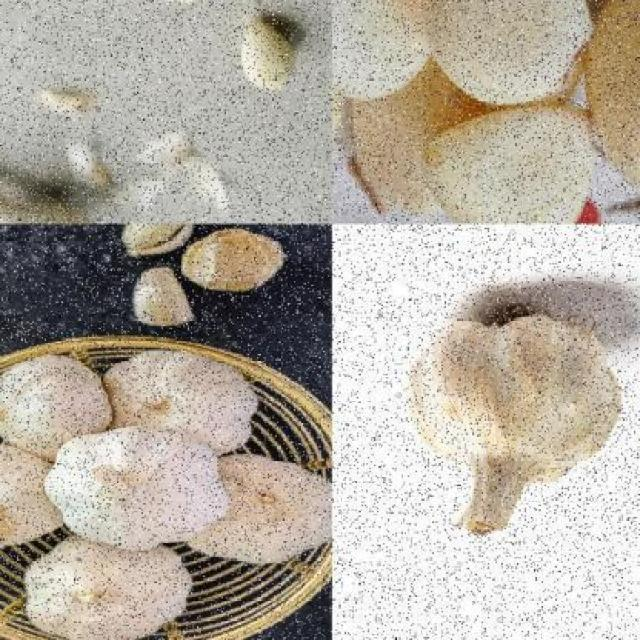garlic: (332, 0, 640, 223), (404, 295, 628, 543), (48, 430, 228, 550), (108, 224, 292, 328), (424, 0, 597, 105), (23, 536, 194, 639), (180, 452, 331, 566), (99, 353, 259, 456), (0, 353, 105, 459), (0, 440, 89, 548), (240, 10, 300, 93)
